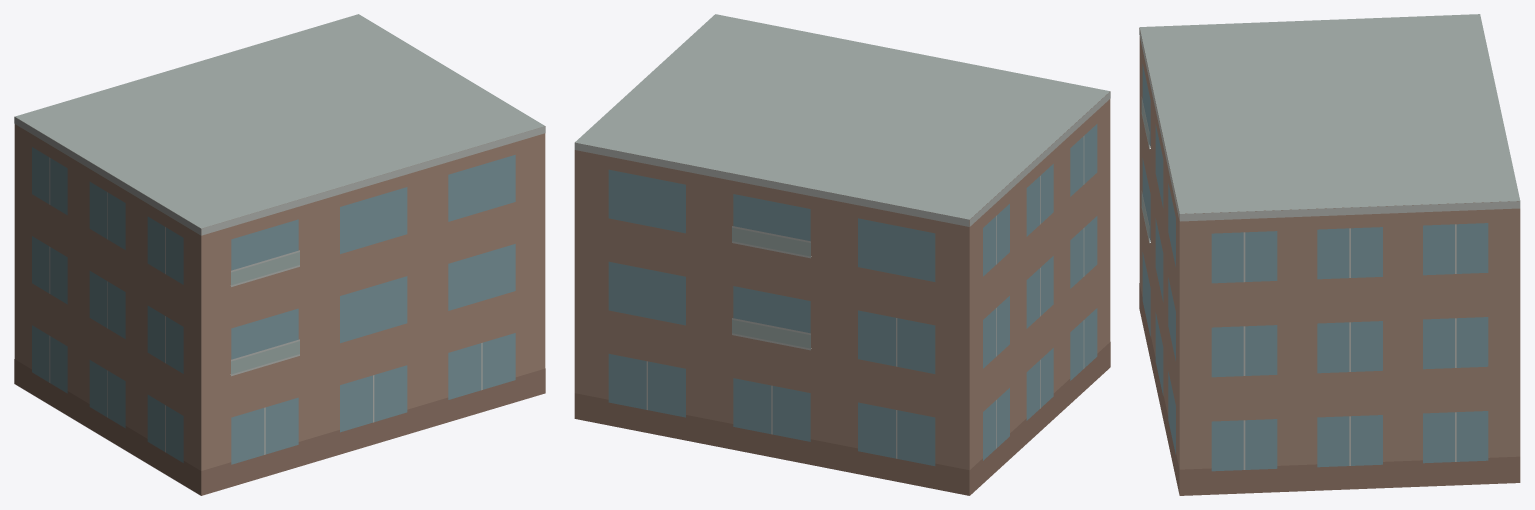
Rendered from survey-upis-32975337.glb.
3 renders of one model, left to right at view 1: azimuth 30°, elevation 25°; view 2: azimuth 150°, elevation 25°; view 3: azimuth 270°, elevation 25°, orthographic. The views are drawn at different scales.
Visible parts, largest first — view 1: survey-upis-32975337.tmp; view 2: survey-upis-32975337.tmp; view 3: survey-upis-32975337.tmp.
Part boxes in pixels (x1,y1,x2,y2): survey-upis-32975337.tmp: (14, 14, 545, 495); survey-upis-32975337.tmp: (574, 14, 1110, 495); survey-upis-32975337.tmp: (1139, 14, 1520, 495).
Size of the model in its own units: 13.93 by 9.15 by 11.21.
